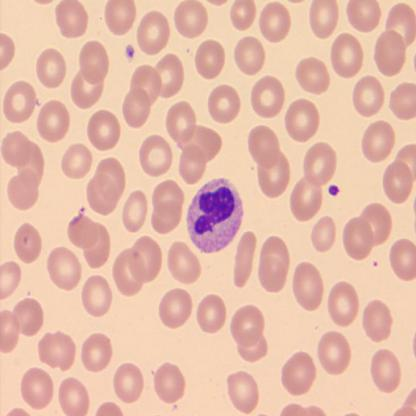Segmented neutrophil: (186, 173, 245, 257)
